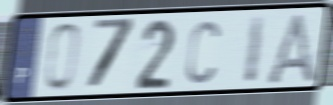0: (42, 19, 86, 95)
2: (136, 15, 178, 92)
7: (88, 17, 137, 95)
A: (263, 10, 320, 86)
C: (184, 18, 222, 87)
I: (242, 12, 268, 87)
